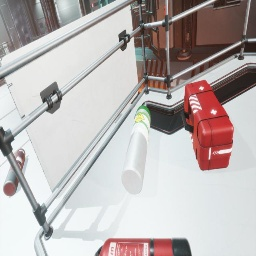0: (121, 102, 151, 195)
FireAlarm ,: (164, 4, 169, 18), (46, 18, 48, 24)
FireExtinguisher ]: (94, 237, 192, 256)
FirstAidBox ,: (181, 80, 234, 171)
NitrogenTank ,: (3, 148, 26, 196)
SafetySwitchPanel ,: (92, 10, 94, 12)
